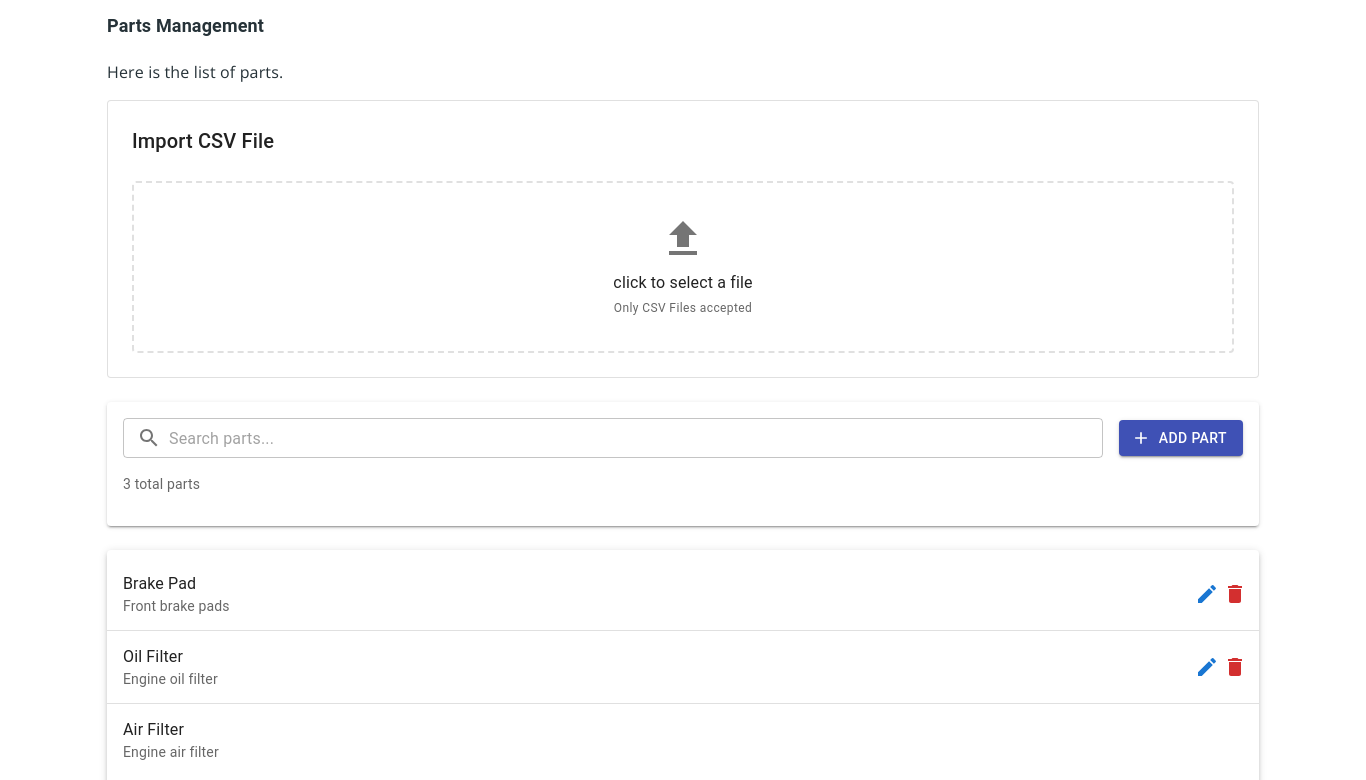
Scenario: Parts page › filters parts when searching
The image size is (1366, 780).
// Type in search box
Type "Brake" into the field with placeholder "Search parts..." at (636, 438), box [169,418,1103,458]
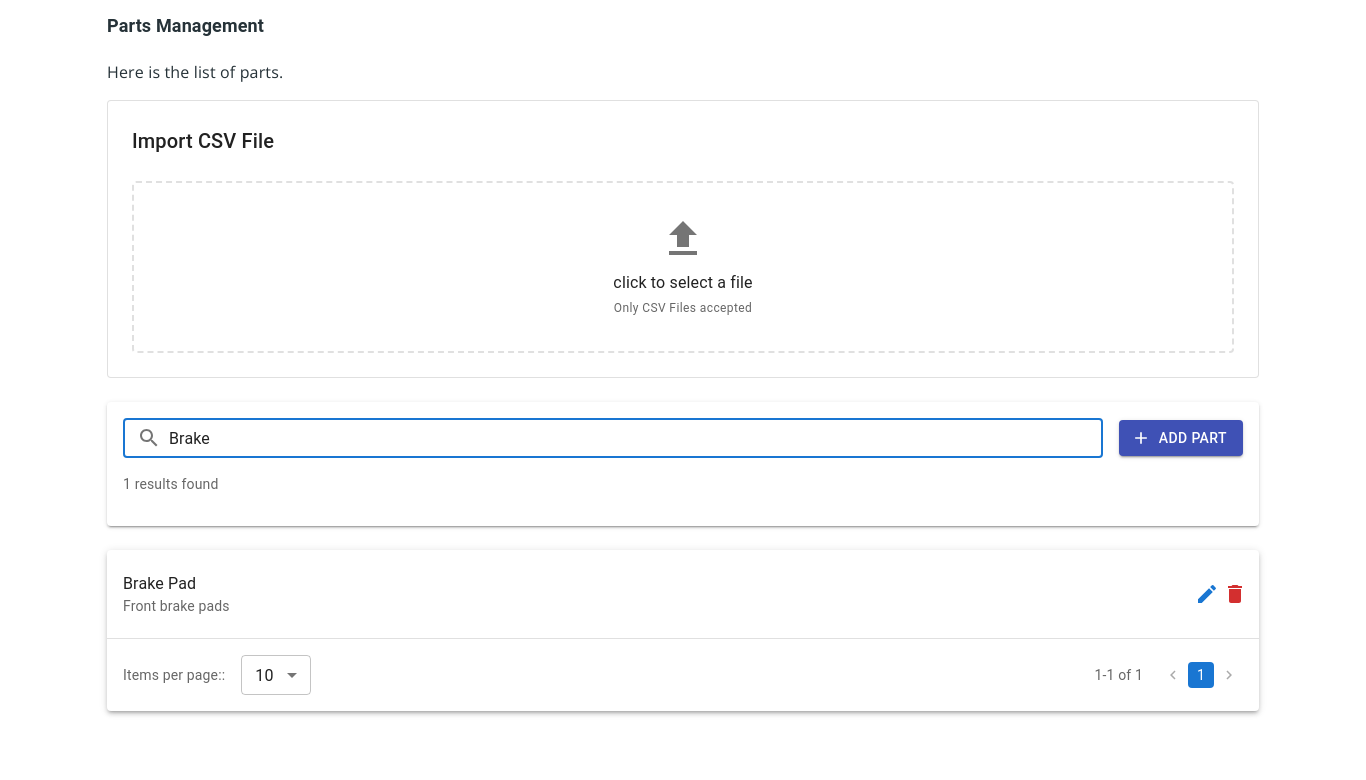
Expected: the text "Brake Pad" is shown, [123,574,196,593]
Expected: the text "Oil Filter" is gone
